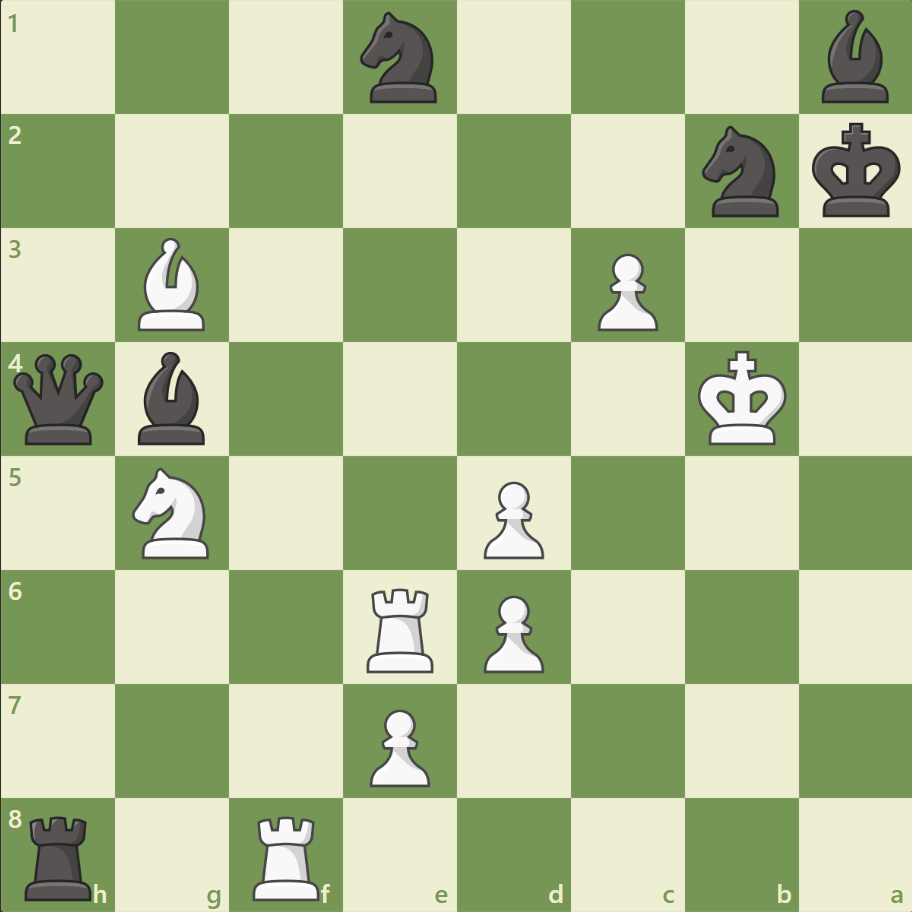B: (131, 233, 215, 336)
K: (692, 344, 792, 452)
N: (124, 461, 222, 564)
P: (474, 586, 549, 677), (474, 473, 549, 564), (361, 700, 435, 791), (588, 246, 662, 337)
R: (246, 806, 329, 904), (360, 579, 442, 676)
b: (812, 6, 896, 109), (131, 347, 215, 449)
k: (806, 117, 906, 225)
n: (351, 7, 449, 110), (692, 121, 789, 223)
q: (10, 349, 109, 449)
r: (19, 806, 102, 904)
